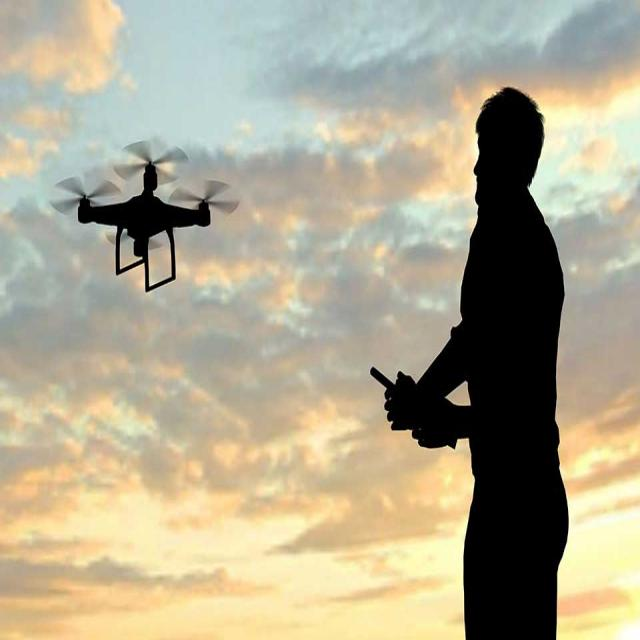drone: (51, 137, 241, 292)
